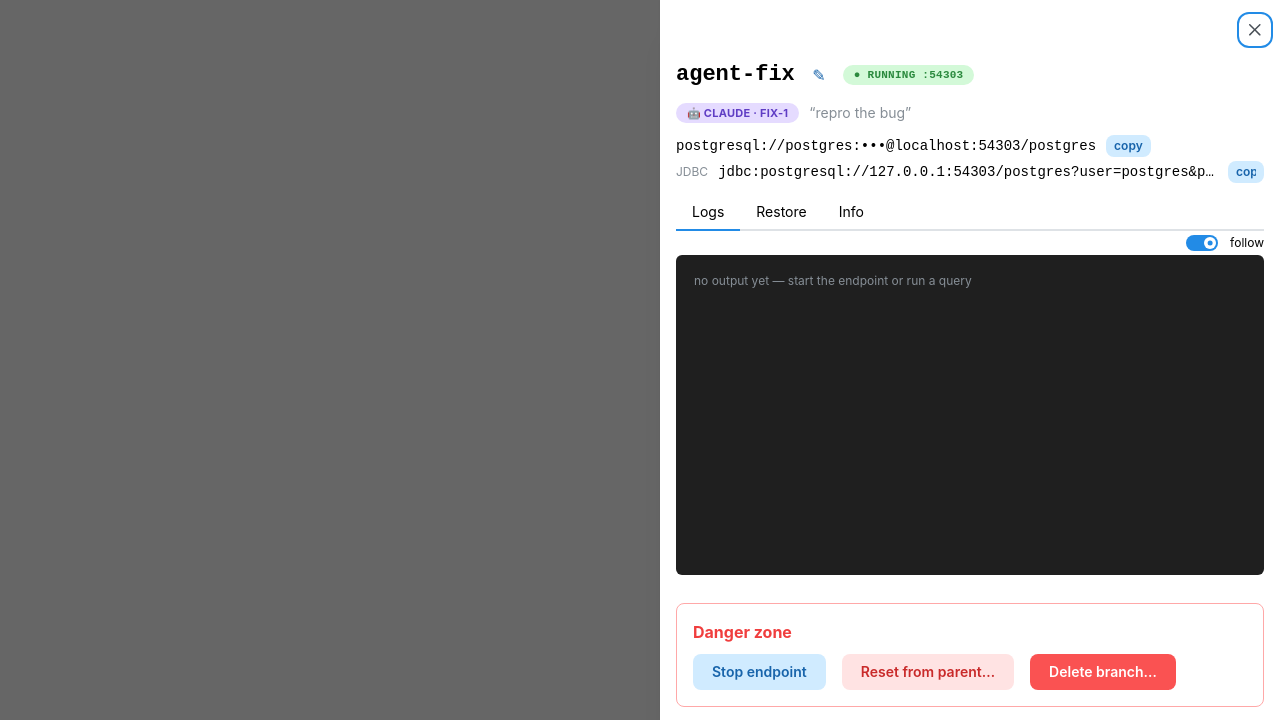
Test: BranchDrawer › restart-to-adopt chip (Info tab) › shows no badge when the running version already matches the active build
Click the tab "Info" at (851, 213), box [823,195,880,231]
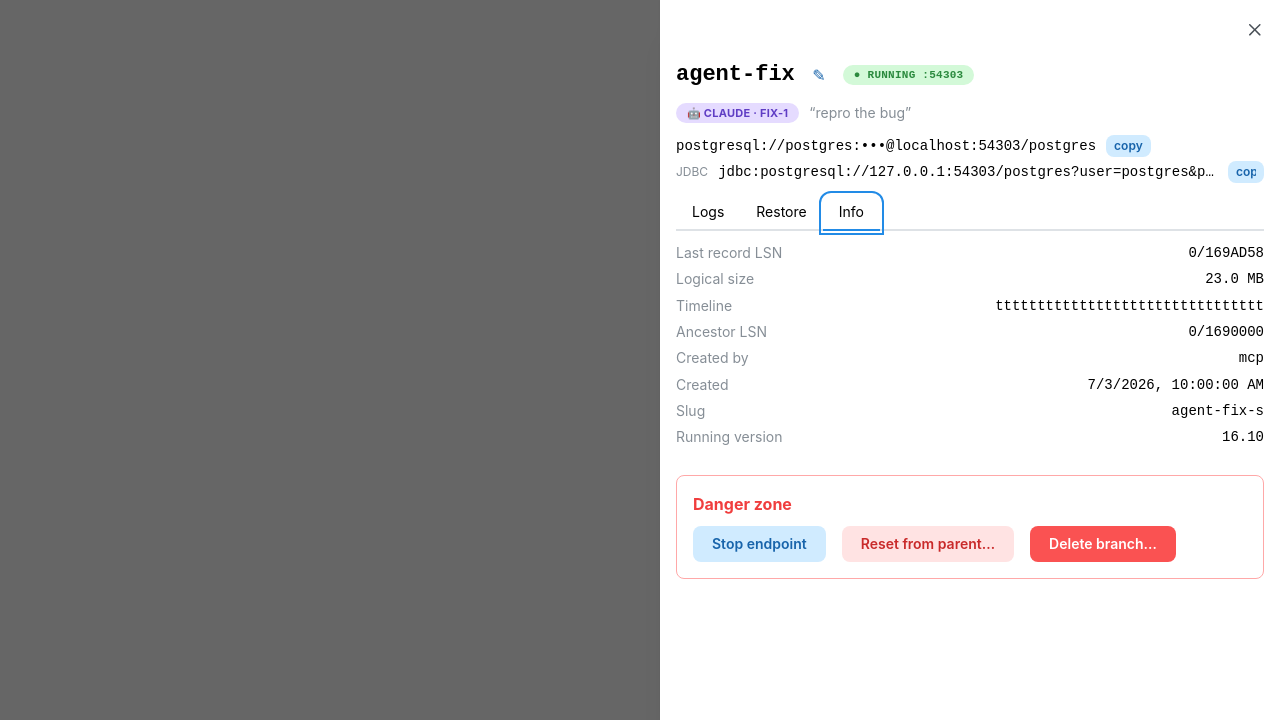
Check: the text "0/169AD58" is shown, box [1188,243,1264,263]
